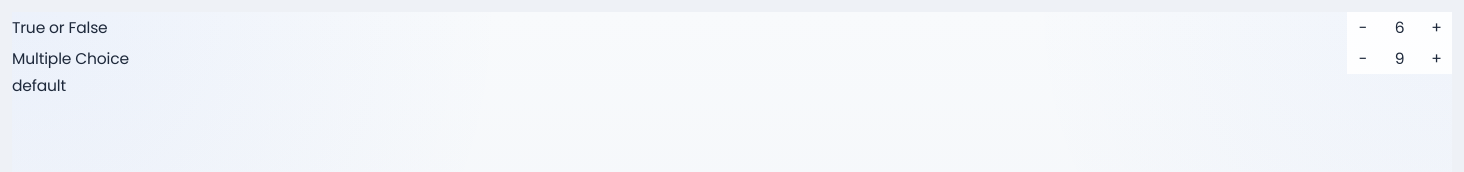
Test: TypeSplit › goes past the LOTS count, because True or False can be HOTS too
The width and height of the screenshot is (1464, 172).
Replace the text in the field named "True or False" with "12" at [1400, 28], box [1378,16,1421,39]
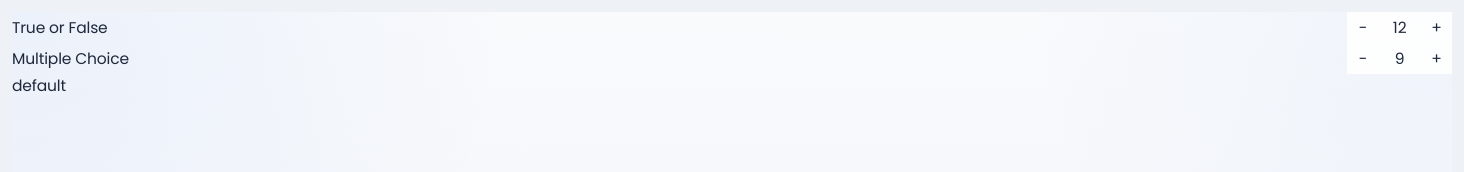
Leave the field named "True or False", box [1378,16,1421,39]
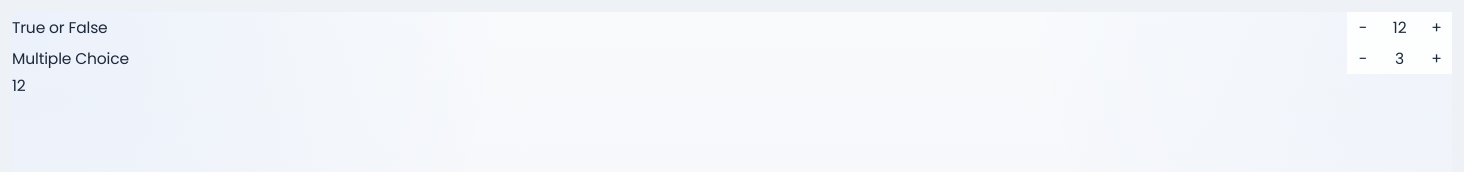
Expected: the field named "Multiple Choice" holds "3", [1378,47,1421,70]
Expected: the text with test id "saved" reads "12", [12,75,26,96]
